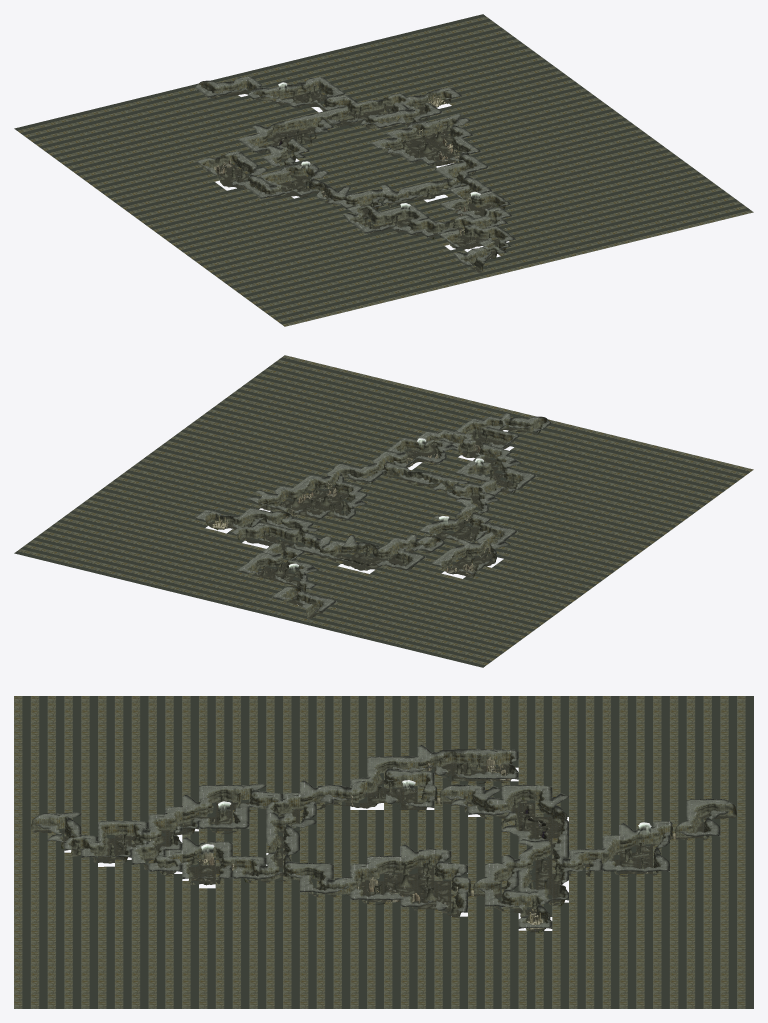
Rendered from map_D01_01.glb.
3 views of the same model, one above another, from view 1: azimuth 30°, elevation 25°; view 2: azimuth 150°, elevation 25°; view 3: azimuth 270°, elevation 25° (orthographic). The views are drawn at different scales.
Visible parts, largest first — view 1: default_ground; view 2: default_ground; view 3: default_ground, FM_D01_wall02_AEA, FM_D01_grd03_AAA.
Part boxes in pixels (x1,y1,x2,y2): default_ground: (14, 14, 753, 326); default_ground: (14, 355, 753, 667); default_ground: (14, 696, 753, 1008); FM_D01_wall02_AEA: (434, 749, 467, 767); FM_D01_grd03_AAA: (384, 869, 417, 895).
Bounding box in the file's own units: 1056 × 47.24 × 1056.
Materials: 360 (360 with a texture image).
